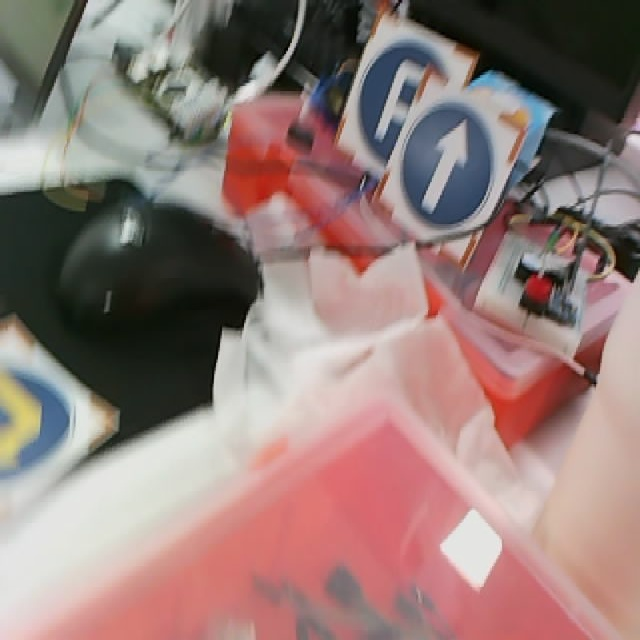parking: (336, 5, 480, 177)
strait: (374, 64, 527, 274)
